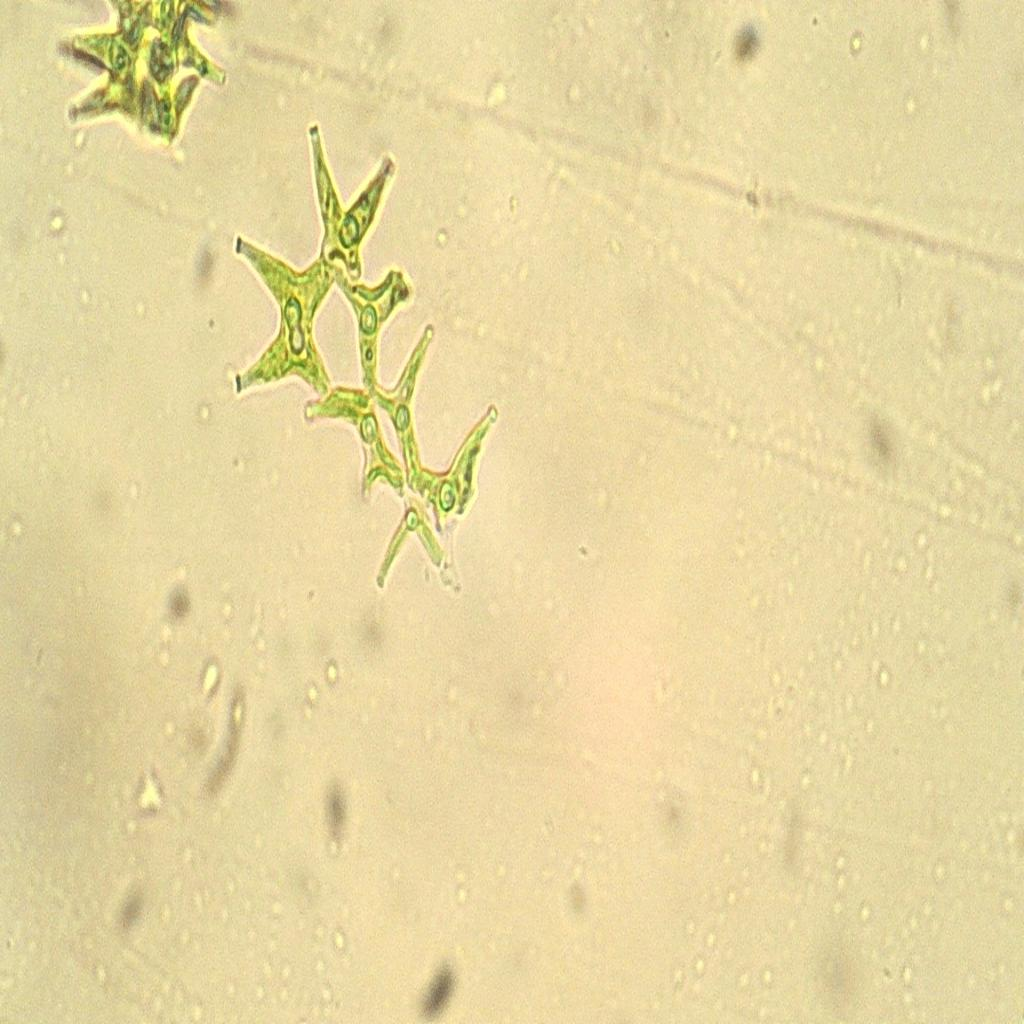Pediastrum_1TH: (216, 109, 510, 623)
